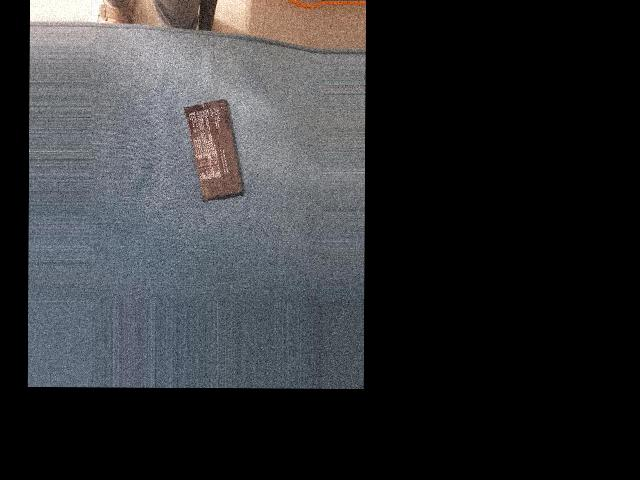chocolate: (175, 97, 246, 201)
